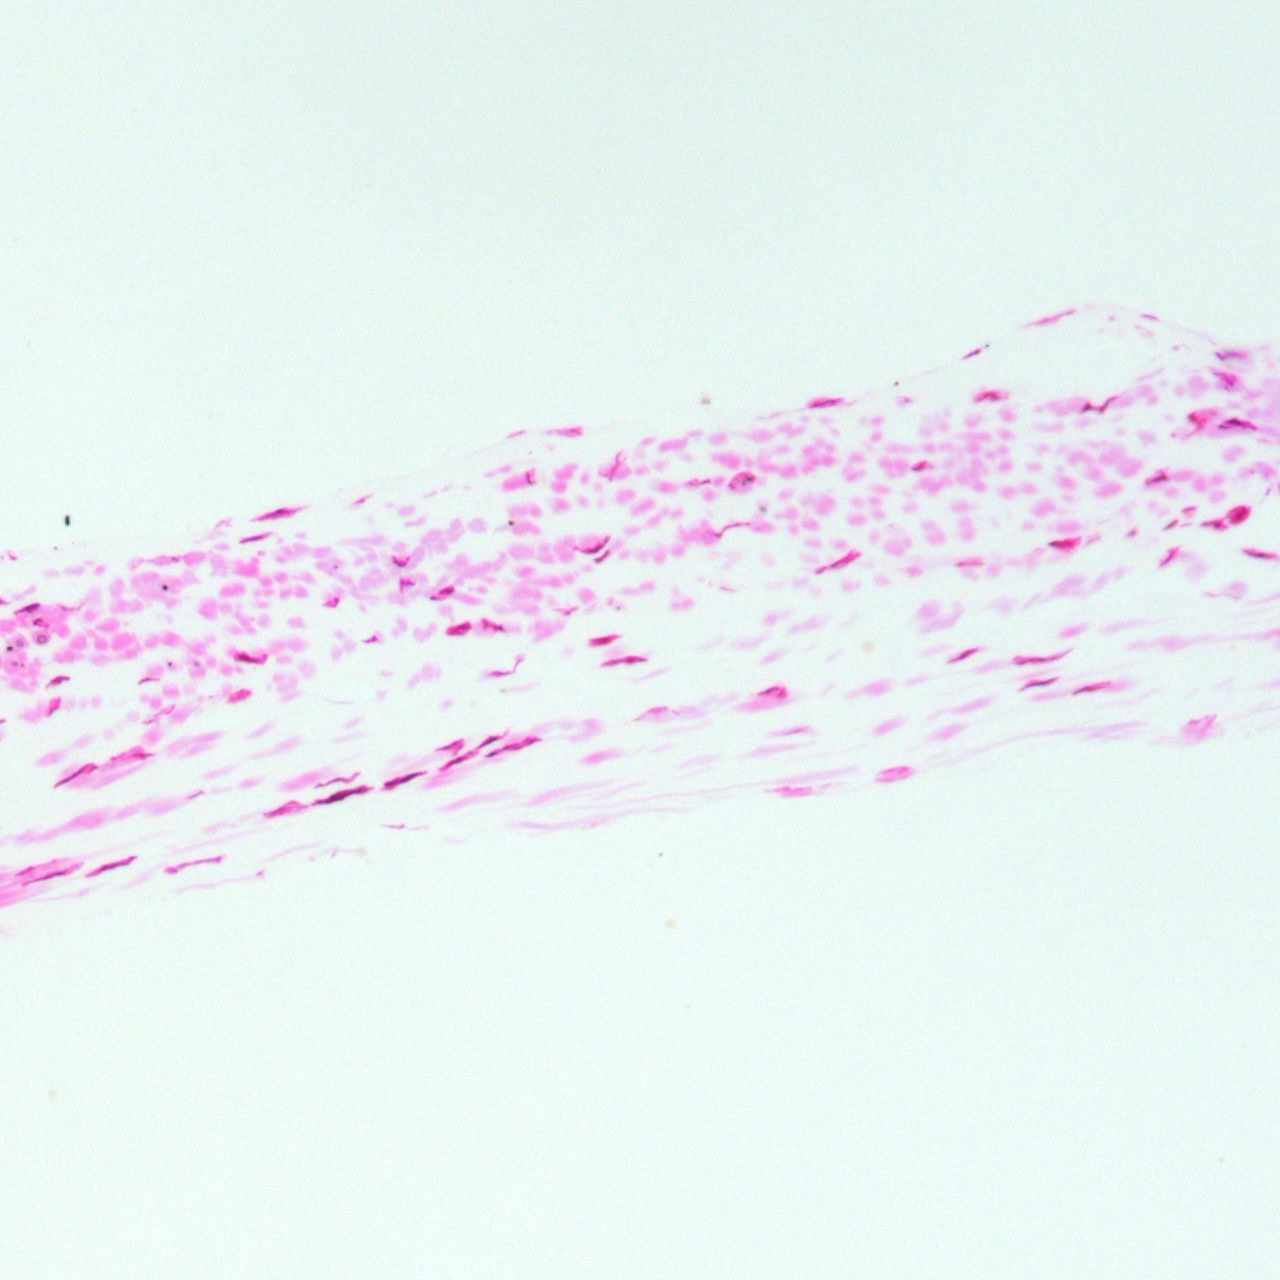dust: (35, 633, 48, 645), (64, 515, 70, 525), (161, 584, 169, 591), (760, 506, 768, 513), (11, 661, 18, 667), (508, 520, 515, 526), (893, 380, 899, 387), (193, 662, 200, 667), (7, 646, 13, 651), (983, 343, 989, 348), (21, 663, 26, 668), (53, 545, 57, 550), (166, 662, 171, 666), (334, 564, 338, 568), (658, 852, 662, 856), (617, 606, 620, 610)
nucleus-FG: (311, 783, 366, 808), (166, 855, 223, 874), (86, 855, 137, 876), (313, 771, 359, 794), (504, 731, 539, 754), (23, 869, 69, 885), (601, 653, 649, 668), (579, 535, 612, 557), (712, 518, 749, 537), (384, 770, 421, 789), (53, 767, 84, 788), (948, 646, 978, 665), (1020, 676, 1056, 690), (257, 506, 290, 522), (1015, 653, 1062, 663), (1071, 682, 1105, 696), (1159, 546, 1180, 568), (475, 733, 499, 751), (445, 621, 474, 638), (440, 754, 465, 771), (1228, 505, 1250, 525), (830, 553, 855, 568), (46, 696, 63, 717), (1214, 370, 1235, 388), (591, 633, 617, 647), (16, 601, 41, 615), (810, 397, 842, 408), (437, 738, 461, 753), (593, 549, 613, 565), (265, 805, 287, 819), (757, 685, 781, 697), (1244, 549, 1271, 558), (240, 533, 264, 544), (481, 621, 503, 632), (960, 348, 980, 360), (137, 675, 159, 685), (396, 579, 414, 591), (1099, 396, 1112, 411), (978, 392, 998, 401), (440, 583, 454, 595), (1164, 518, 1179, 530), (392, 557, 408, 567), (1223, 417, 1244, 425), (956, 560, 983, 566), (18, 865, 34, 874), (132, 753, 154, 760), (912, 462, 926, 472), (1207, 520, 1225, 529), (452, 743, 464, 755), (491, 670, 515, 676), (523, 472, 533, 485), (1216, 350, 1228, 361), (50, 675, 64, 685), (237, 654, 251, 662), (742, 475, 756, 483), (1153, 475, 1167, 483), (363, 636, 379, 644), (1080, 403, 1092, 411), (87, 764, 98, 772), (1182, 505, 1198, 511), (813, 567, 826, 574), (699, 478, 712, 485), (486, 750, 497, 758), (1048, 540, 1062, 546), (427, 594, 437, 601), (1216, 424, 1231, 429), (1187, 415, 1198, 421)
